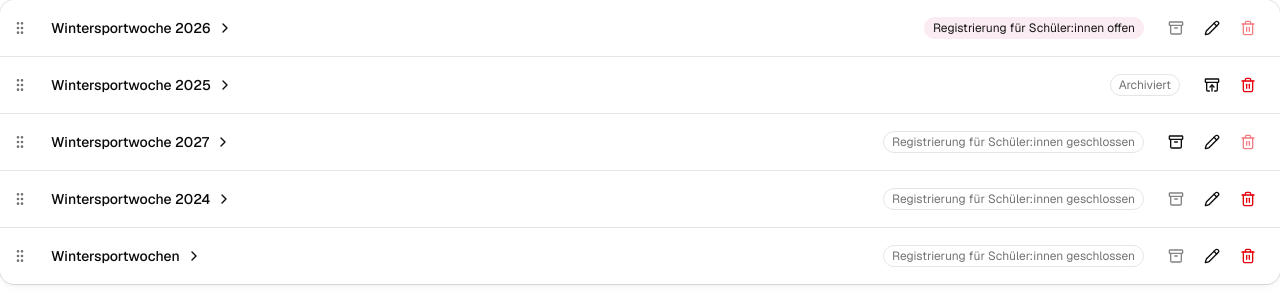
Test: EventSeriesList — tooltips › explains the Eventreihe Wintersportwoche 2027 bearbeiten icon on hover
Hover over the button named "Eventreihe Wintersportwoche 2027 bearbeiten" at [1212, 142], box [1196,126,1228,158]
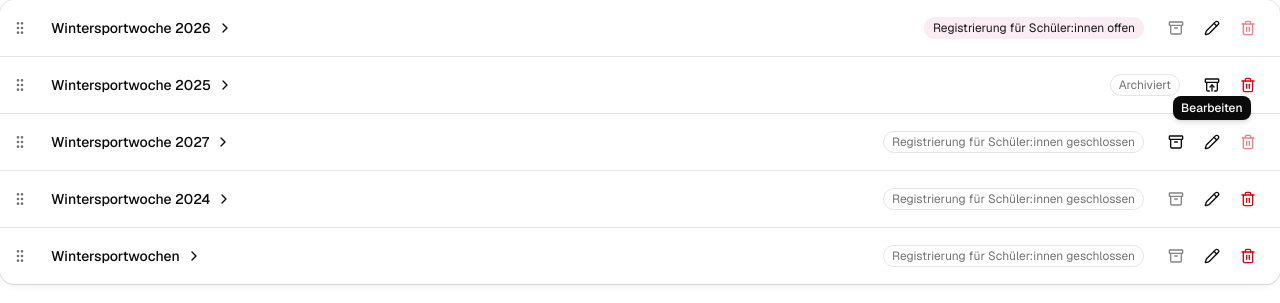
Now the text "Bearbeiten" is shown, box [1173,96,1250,120]
